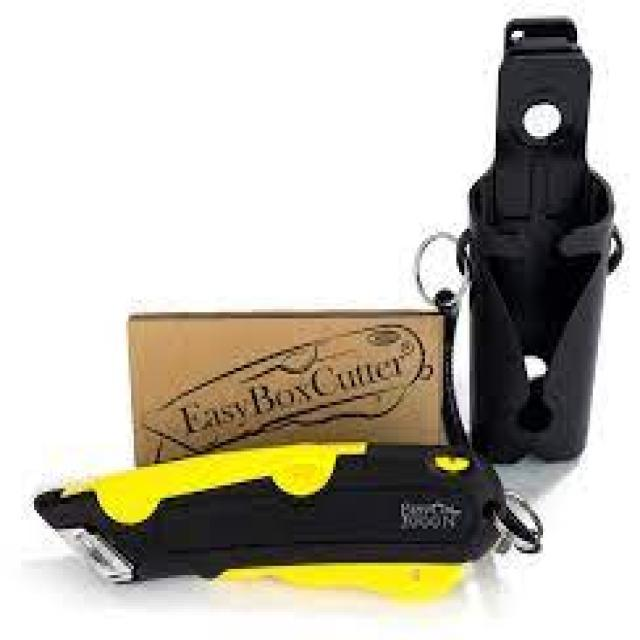cutter: (21, 438, 538, 597)
